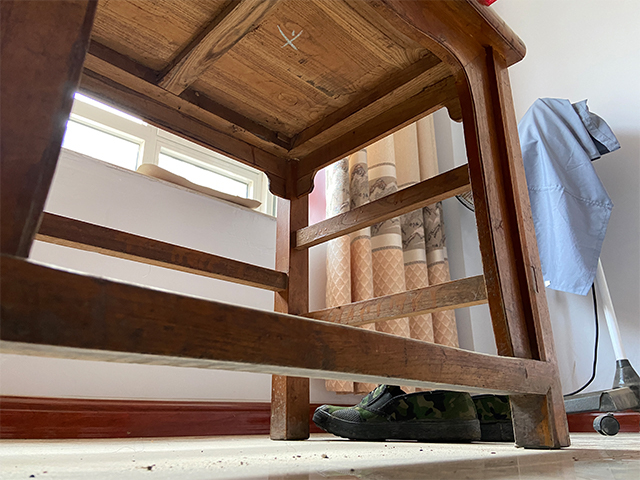curtain: (324, 113, 458, 395)
stool: (1, 1, 569, 450)
